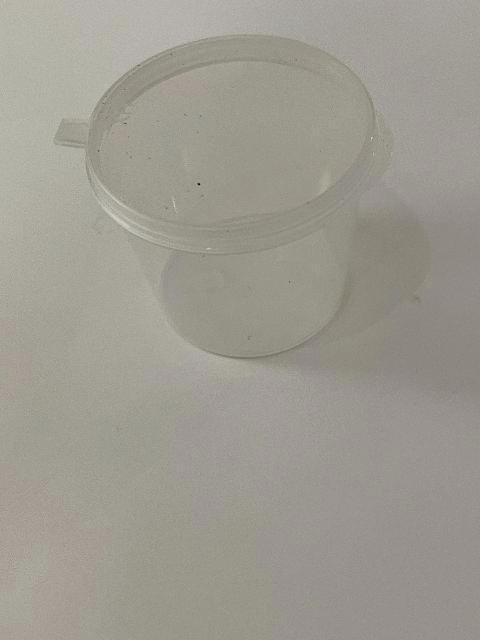plasticcontainer: (51, 29, 397, 360)
